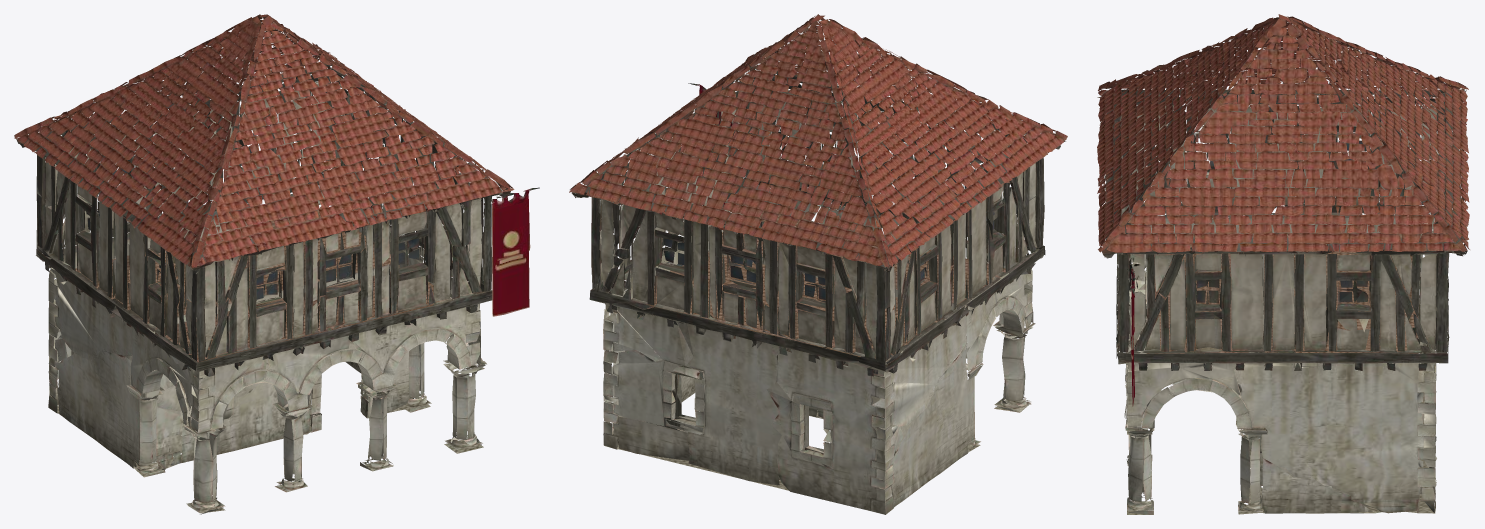
Rendered from corps_de_garde.glb.
The picture shows the model from 3 angles, left to right: view 1: azimuth 30°, elevation 25°; view 2: azimuth 150°, elevation 25°; view 3: azimuth 270°, elevation 25°; orthographic projection. The views are drawn at different scales.
Parts seen in each view (by area): view 1: corps_de_garde; view 2: corps_de_garde; view 3: corps_de_garde.
Boxes of the visible parts, x1,y1,x2,y2 form: corps_de_garde: (14, 14, 539, 514); corps_de_garde: (569, 14, 1067, 514); corps_de_garde: (1097, 14, 1469, 514).
Size of the model in its own units: 9.31 by 10.03 by 7.96.
1 material, 1 textured.
